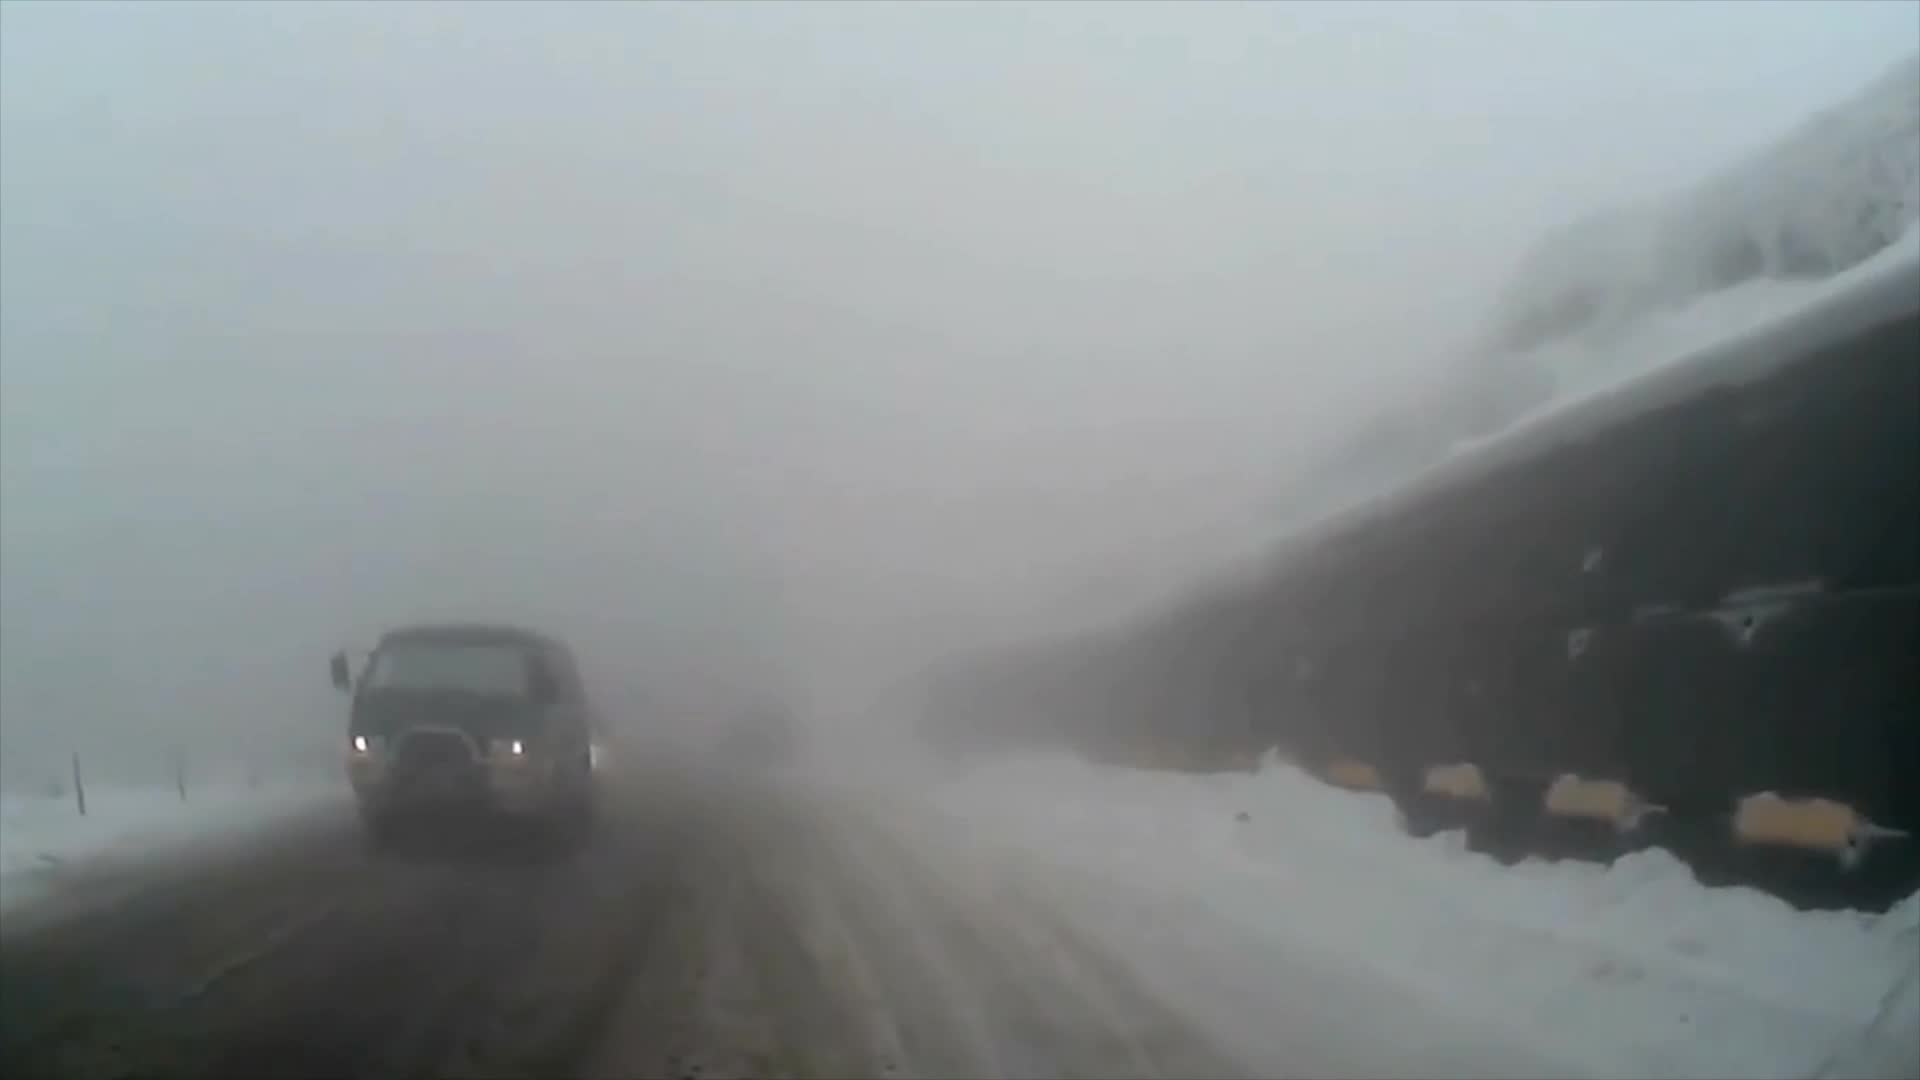vehicle: (324, 622, 597, 864)
